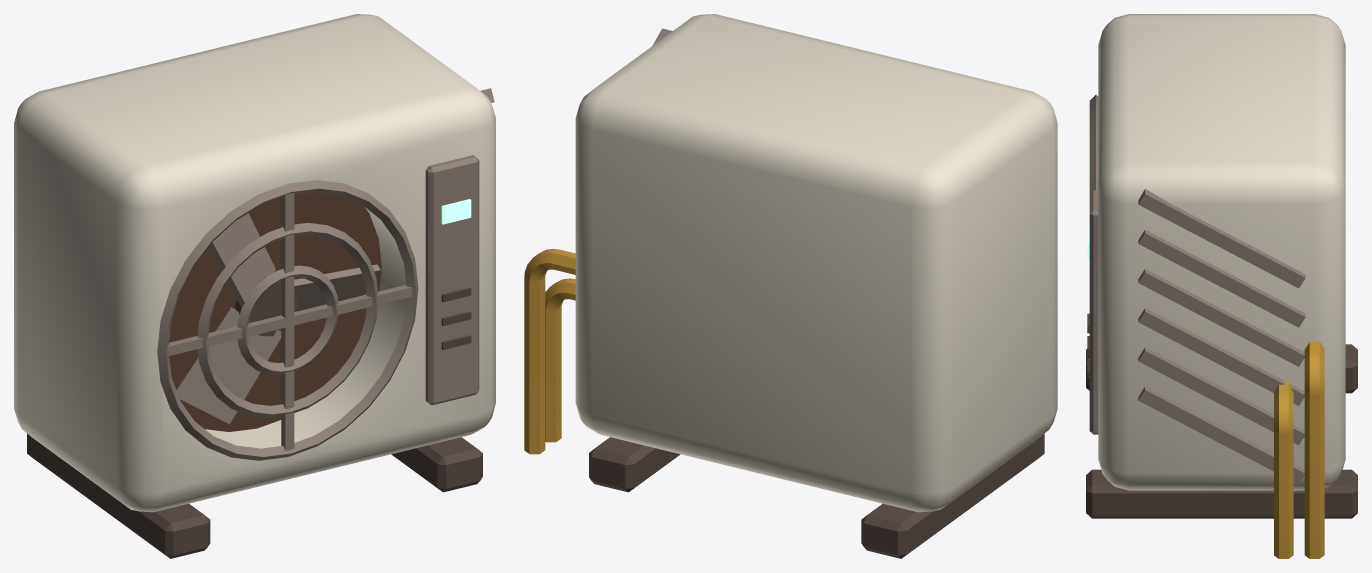
File: vent__upper.glb
3 renders of one model, left to right at view 1: azimuth 30°, elevation 25°; view 2: azimuth 150°, elevation 25°; view 3: azimuth 270°, elevation 25°, orthographic. The views are drawn at different scales.
Parts seen in each view (by area): view 1: Body, Fan; view 2: Body; view 3: Body.
Boxes of the visible parts, x1,y1,x2,y2 form: Body: (14,14,495,558); Fan: (176,213,380,423); Body: (524,14,1057,558); Body: (1086,14,1357,558).
Bounding box in the file's own units: 0.7539 × 0.64 × 0.44.
